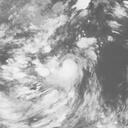cyclone: (48, 58, 82, 89)
